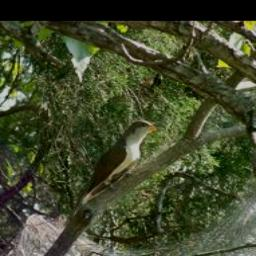Cuckoo: (64, 117, 159, 225)
